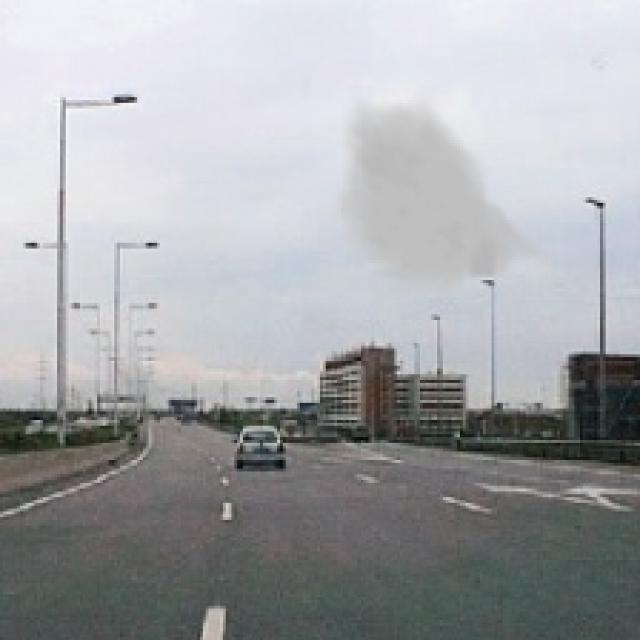smoke: (331, 86, 560, 306)
